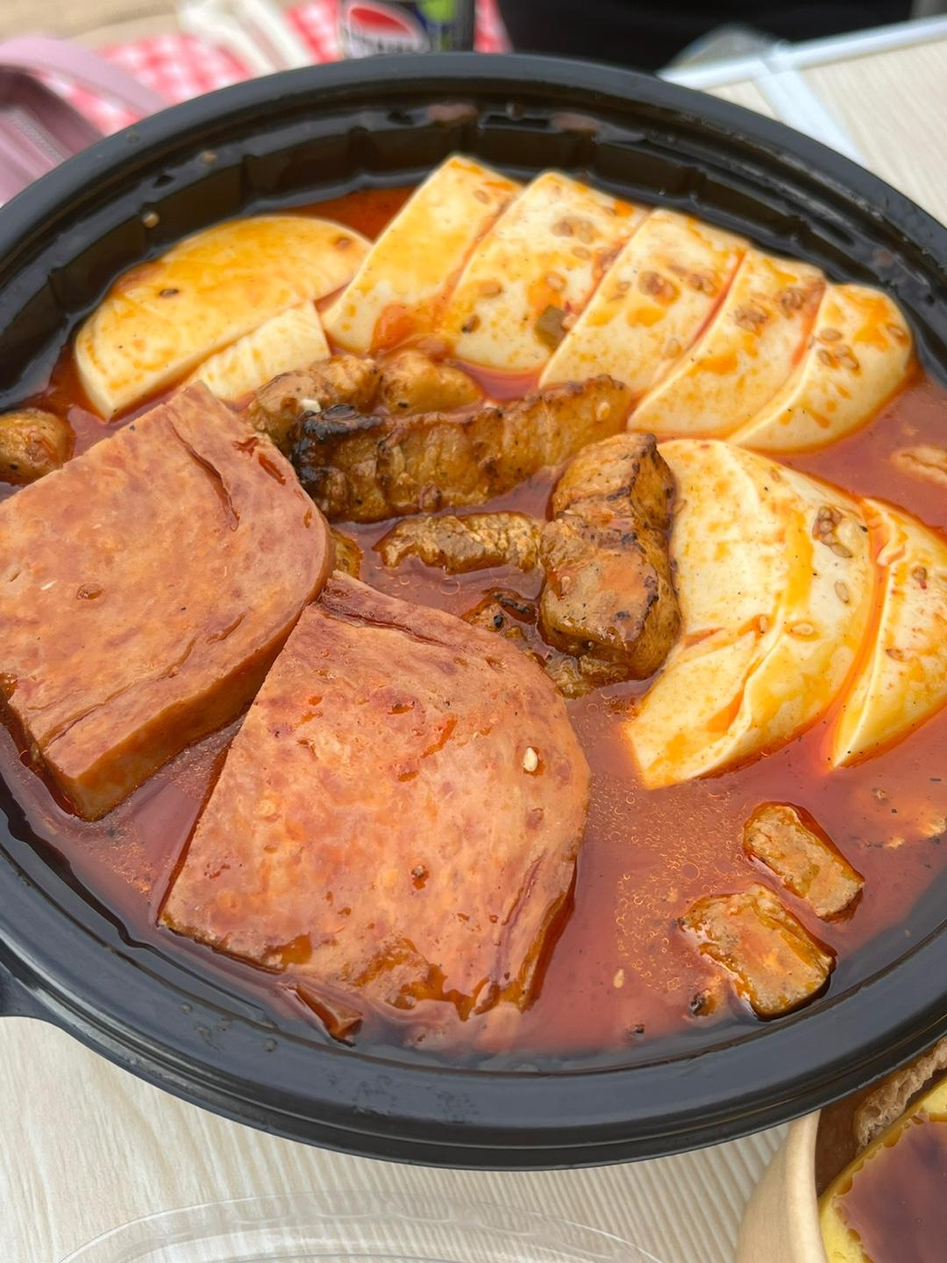Lunch Box: (0, 54, 946, 1167)
